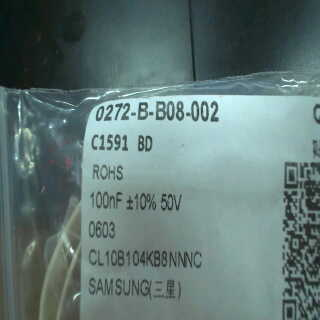100nF: (87, 186, 125, 212)
